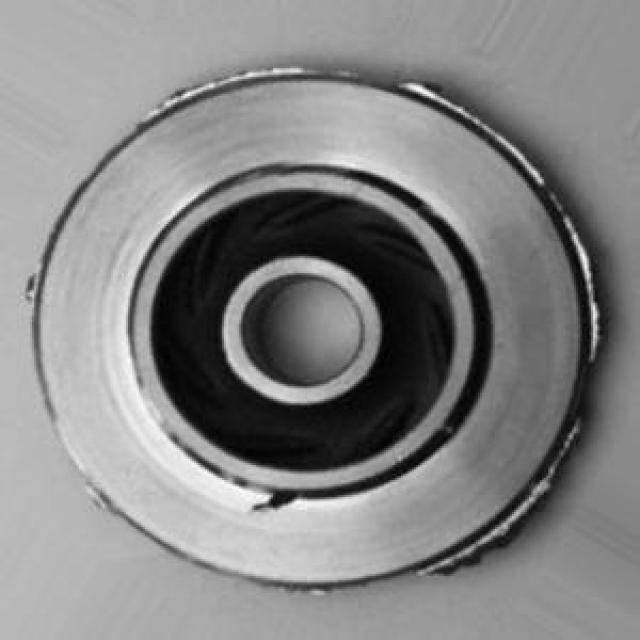Defect: (412, 76, 476, 122)
